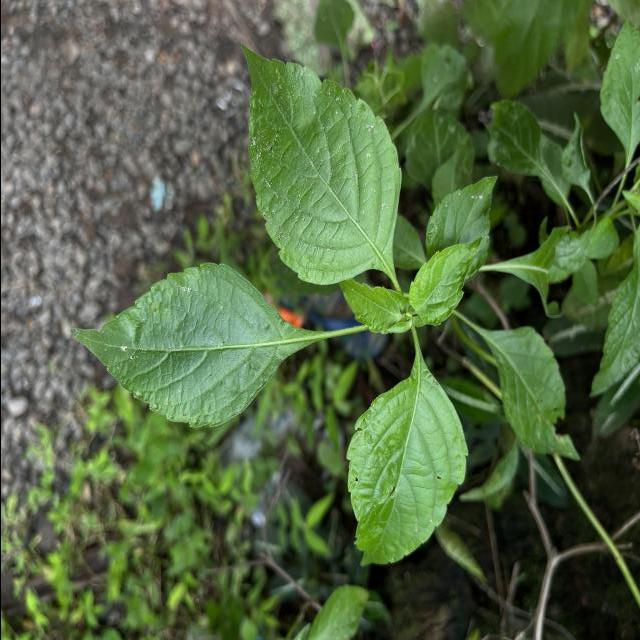Ocimum gratissimum: (66, 257, 340, 431), (234, 38, 404, 290), (342, 340, 472, 572), (404, 235, 484, 328)
